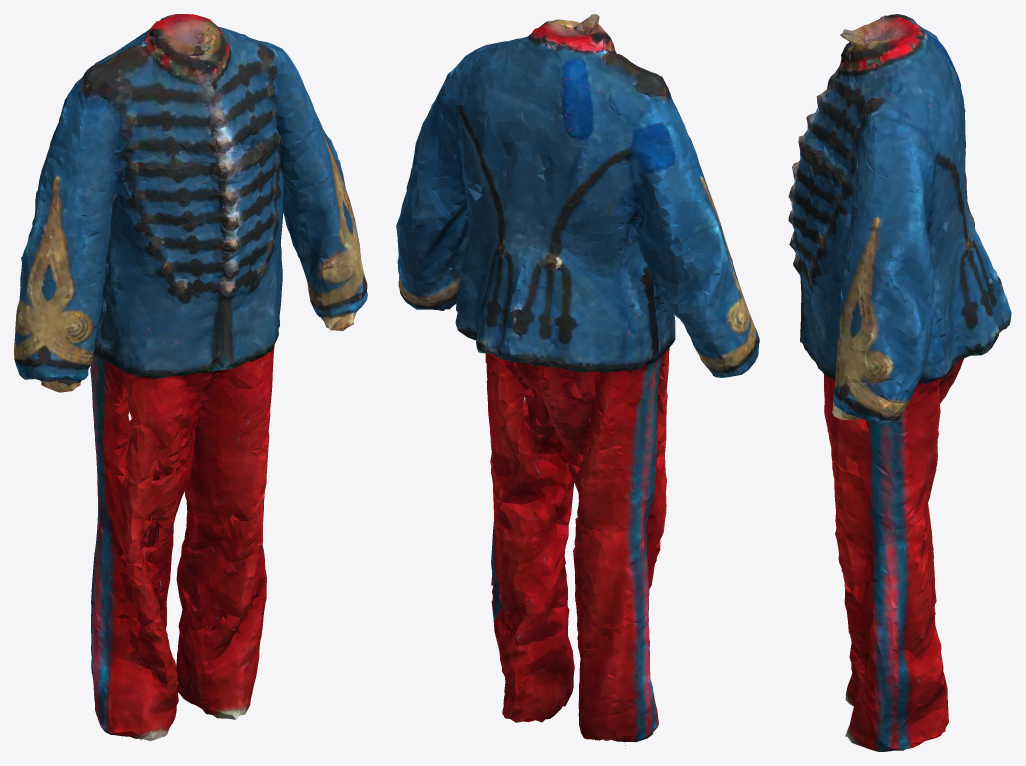
3 views of the same model, side by side, from view 1: azimuth 30°, elevation 25°; view 2: azimuth 150°, elevation 25°; view 3: azimuth 270°, elevation 25° (orthographic).
Parts seen in each view (by area): view 1: geometry_0; view 2: geometry_0; view 3: geometry_0.
Boxes of the visible parts, x1,y1,x2,y2 form: geometry_0: (14,14,367,741); geometry_0: (396,14,759,748); geometry_0: (788,14,1011,751).
Size of the model in its own units: 0.5064 by 1 by 0.281.
Materials: 1 (1 with a texture image).
